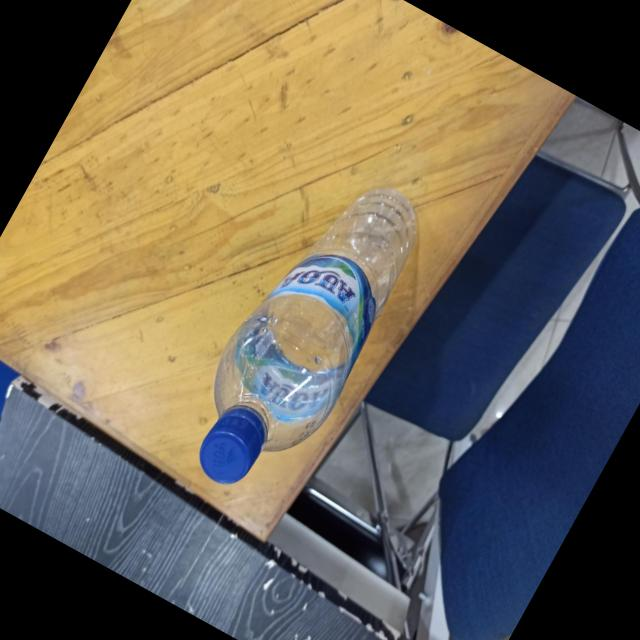BotolPlastik: (163, 154, 440, 516)
